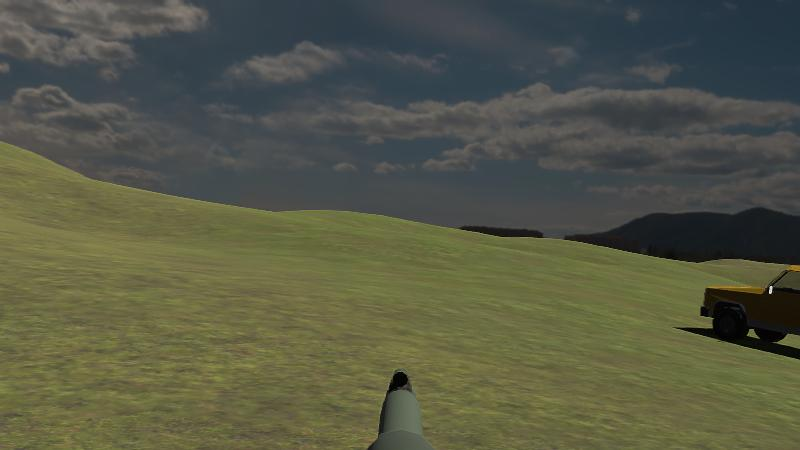car: (699, 262, 800, 373)
